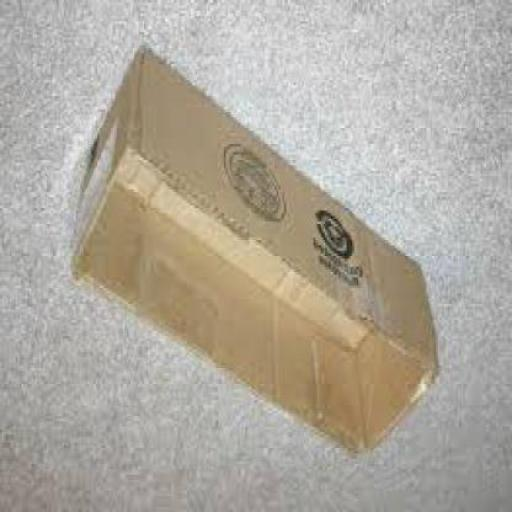cardboard: (68, 48, 438, 462)
